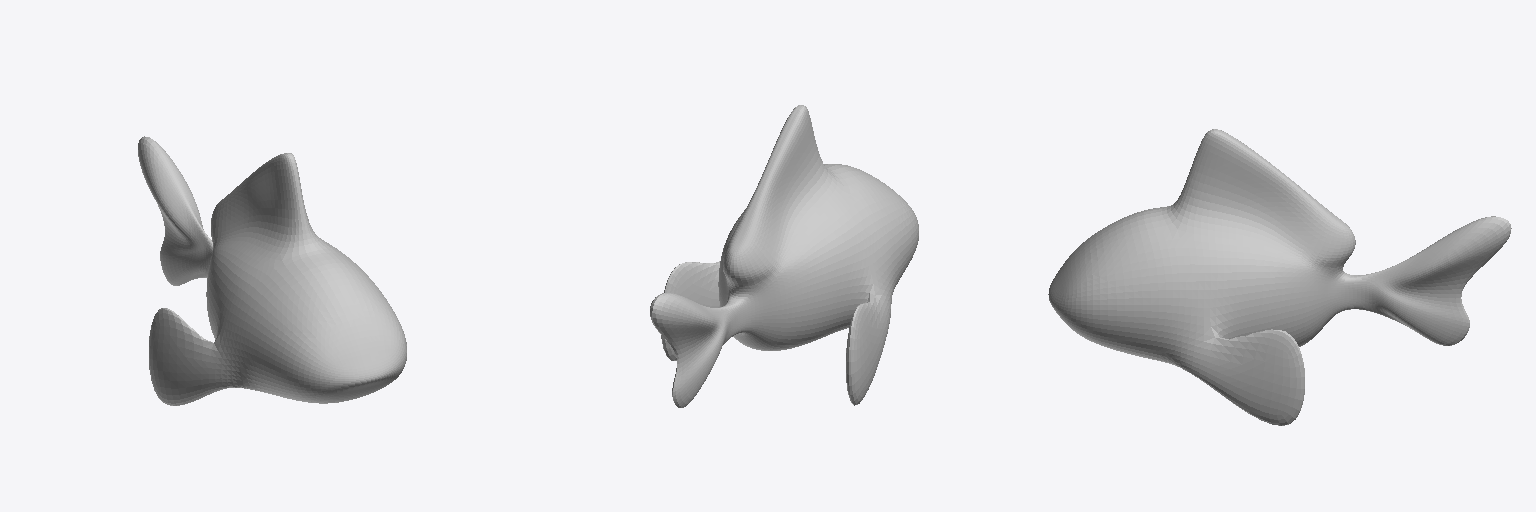
File: blub.obj
3 views of the same model, side by side, from view 1: azimuth 30°, elevation 25°; view 2: azimuth 150°, elevation 25°; view 3: azimuth 270°, elevation 25° (orthographic).
Size of the model in its own units: 1.42 by 1.75 by 2.91.